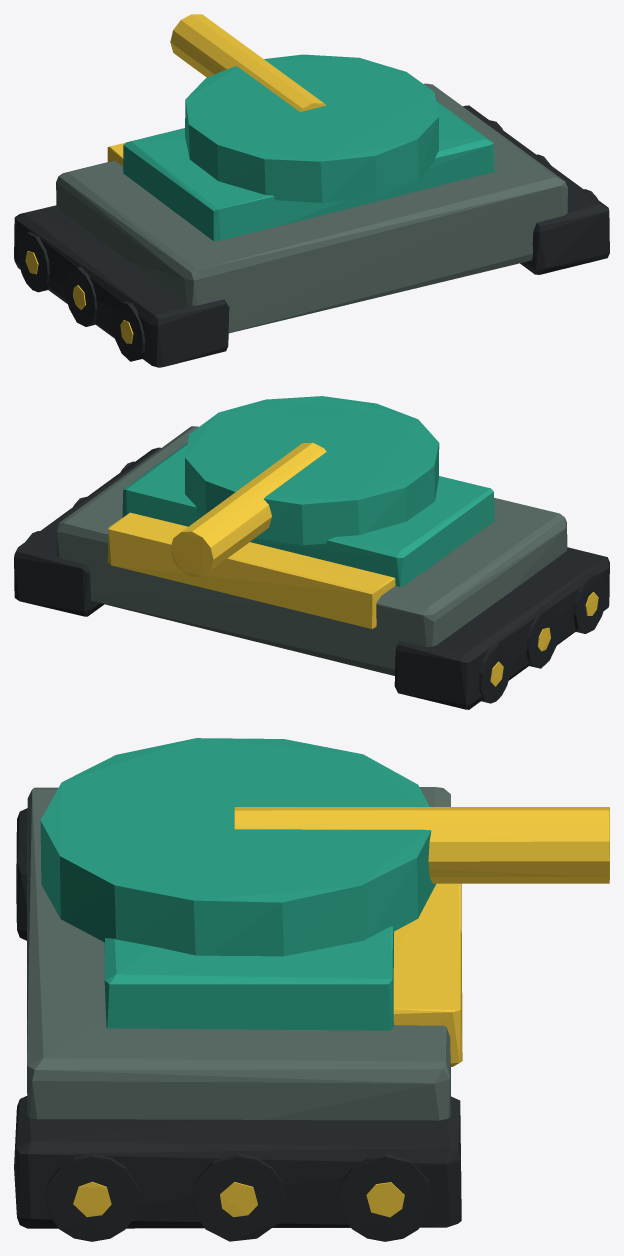
File: SM_Coalition_CO_QinglongMBT_LOD2.fbx
3 views of the same model, one above another, from view 1: azimuth 30°, elevation 25°; view 2: azimuth 150°, elevation 25°; view 3: azimuth 270°, elevation 25° (orthographic). The views are drawn at different scales.
Visible parts, largest first — view 1: LOD02_SM_Coalition_CO_QinglongMBT; view 2: LOD02_SM_Coalition_CO_QinglongMBT; view 3: LOD02_SM_Coalition_CO_QinglongMBT.
Part boxes in pixels (x1,y1,x2,y2): LOD02_SM_Coalition_CO_QinglongMBT: (14,14,609,367); LOD02_SM_Coalition_CO_QinglongMBT: (14,396,609,709); LOD02_SM_Coalition_CO_QinglongMBT: (14,738,609,1241).
Bounding box in the file's own units: 524 × 376 × 179.
